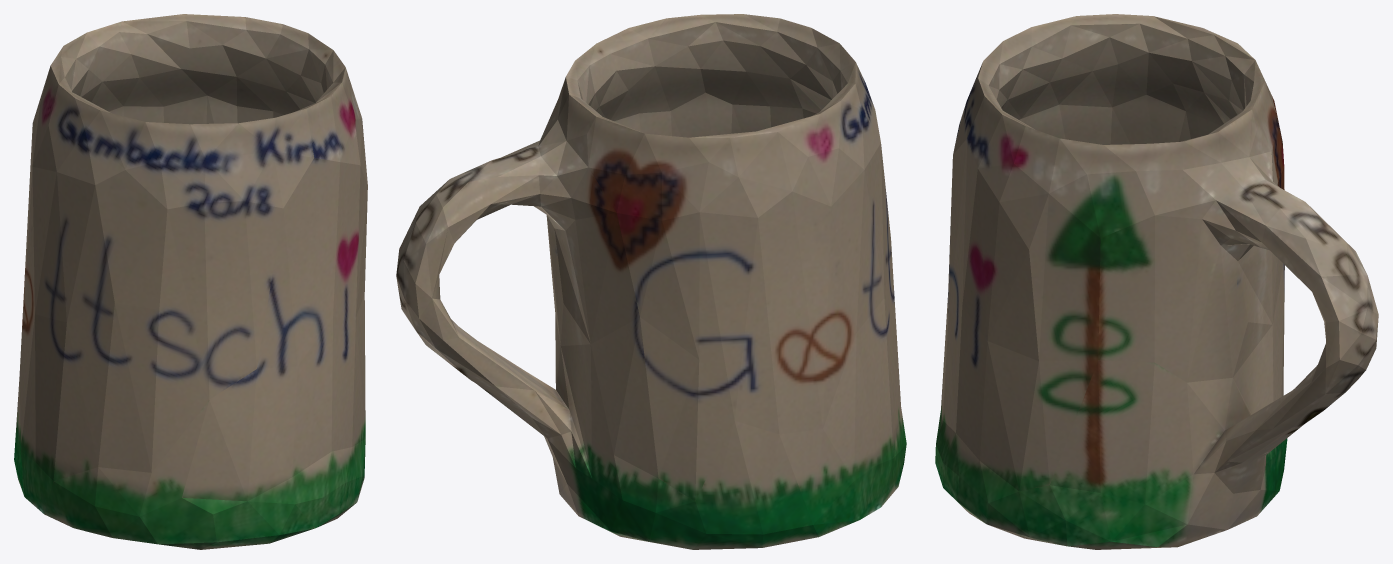
3 views of the same model, side by side, from view 1: azimuth 30°, elevation 25°; view 2: azimuth 150°, elevation 25°; view 3: azimuth 270°, elevation 25° (orthographic).
Visible parts, largest first — view 1: Krug Baum_0.8k_0.5k; view 2: Krug Baum_0.8k_0.5k; view 3: Krug Baum_0.8k_0.5k.
Part boxes in pixels (box(x1,y1,x2,y2)): Krug Baum_0.8k_0.5k: box(14, 14, 367, 549); Krug Baum_0.8k_0.5k: box(396, 14, 906, 549); Krug Baum_0.8k_0.5k: box(935, 14, 1378, 549).
Size of the model in its own units: 0.119 by 0.1288 by 0.1247.
1 material, 1 textured.
